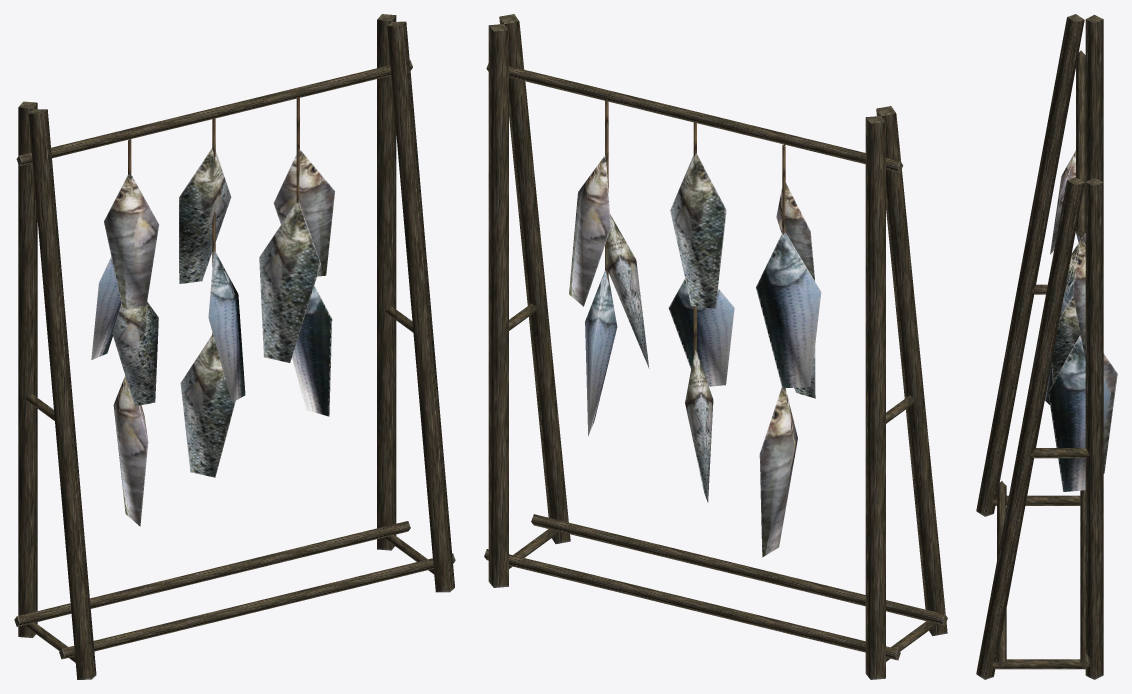
The model's file is thm_dant_fish_l2.fbx.
The picture shows the model from 3 angles, left to right: view 1: azimuth 30°, elevation 25°; view 2: azimuth 150°, elevation 25°; view 3: azimuth 270°, elevation 25°; orthographic projection. The views are drawn at different scales.
Parts seen in each view (by area): view 1: mesh_node; view 2: mesh_node; view 3: mesh_node.
Part boxes in pixels (left/top/right/bottom): mesh_node: left=14, top=14, right=455, bottom=679; mesh_node: left=484, top=14, right=947, bottom=679; mesh_node: left=976, top=14, right=1117, bottom=679.
Size of the model in its own units: 1.39 by 1.81 by 0.4686.
1 material, 1 textured.
